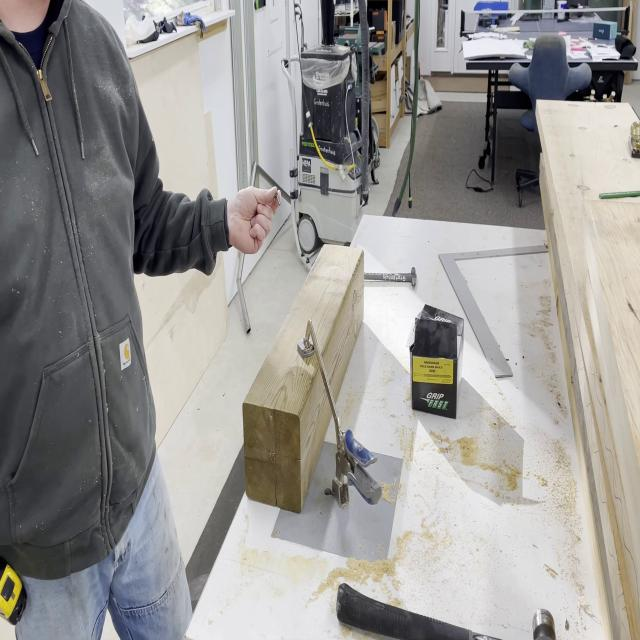hammer: (336, 582, 556, 640), (365, 266, 417, 290)
